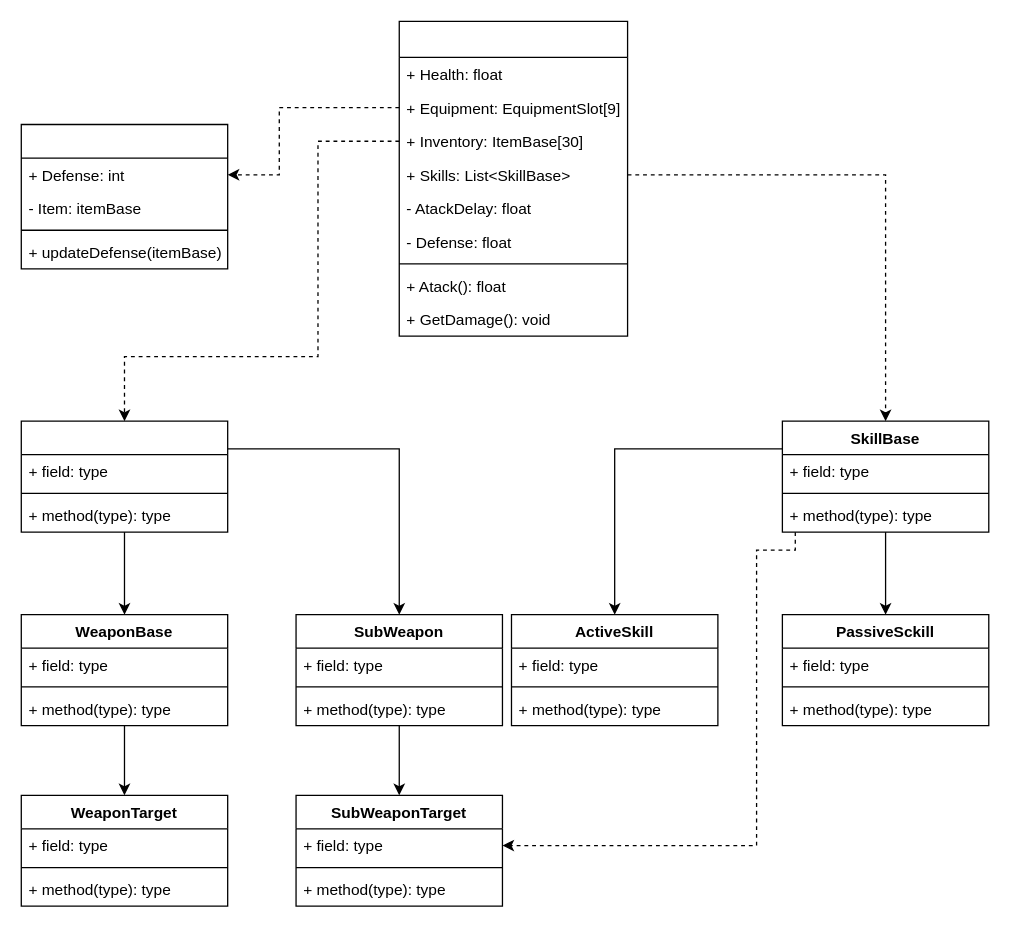
Image size: 1010x928. Some labels were removed from this diagram. The shapes that lost their labels are listed below. From the top down, each one's box as (x1, y1, x2, y2) in pixels, then its label:
(20, 123, 228, 269): EquipmentSlot
(398, 20, 628, 336): Player
(20, 420, 228, 532): ItemBase
